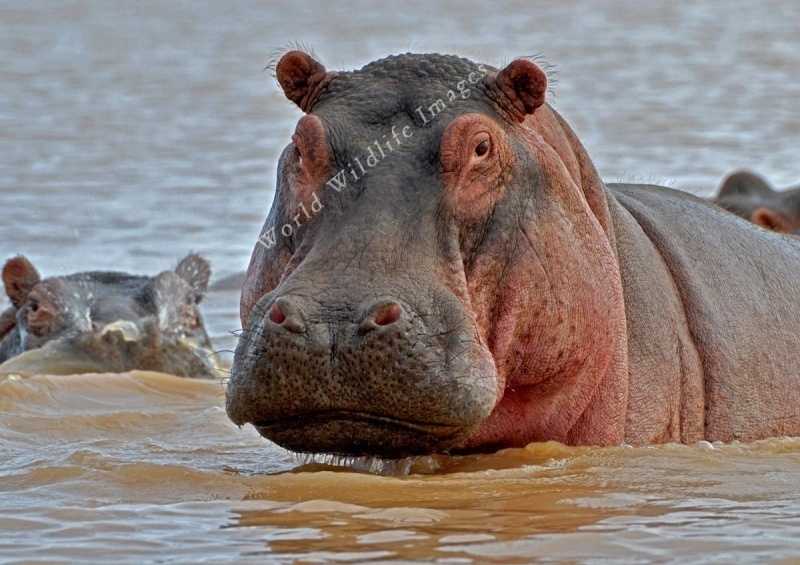hipopotamo: (216, 30, 800, 482), (0, 238, 229, 378)
